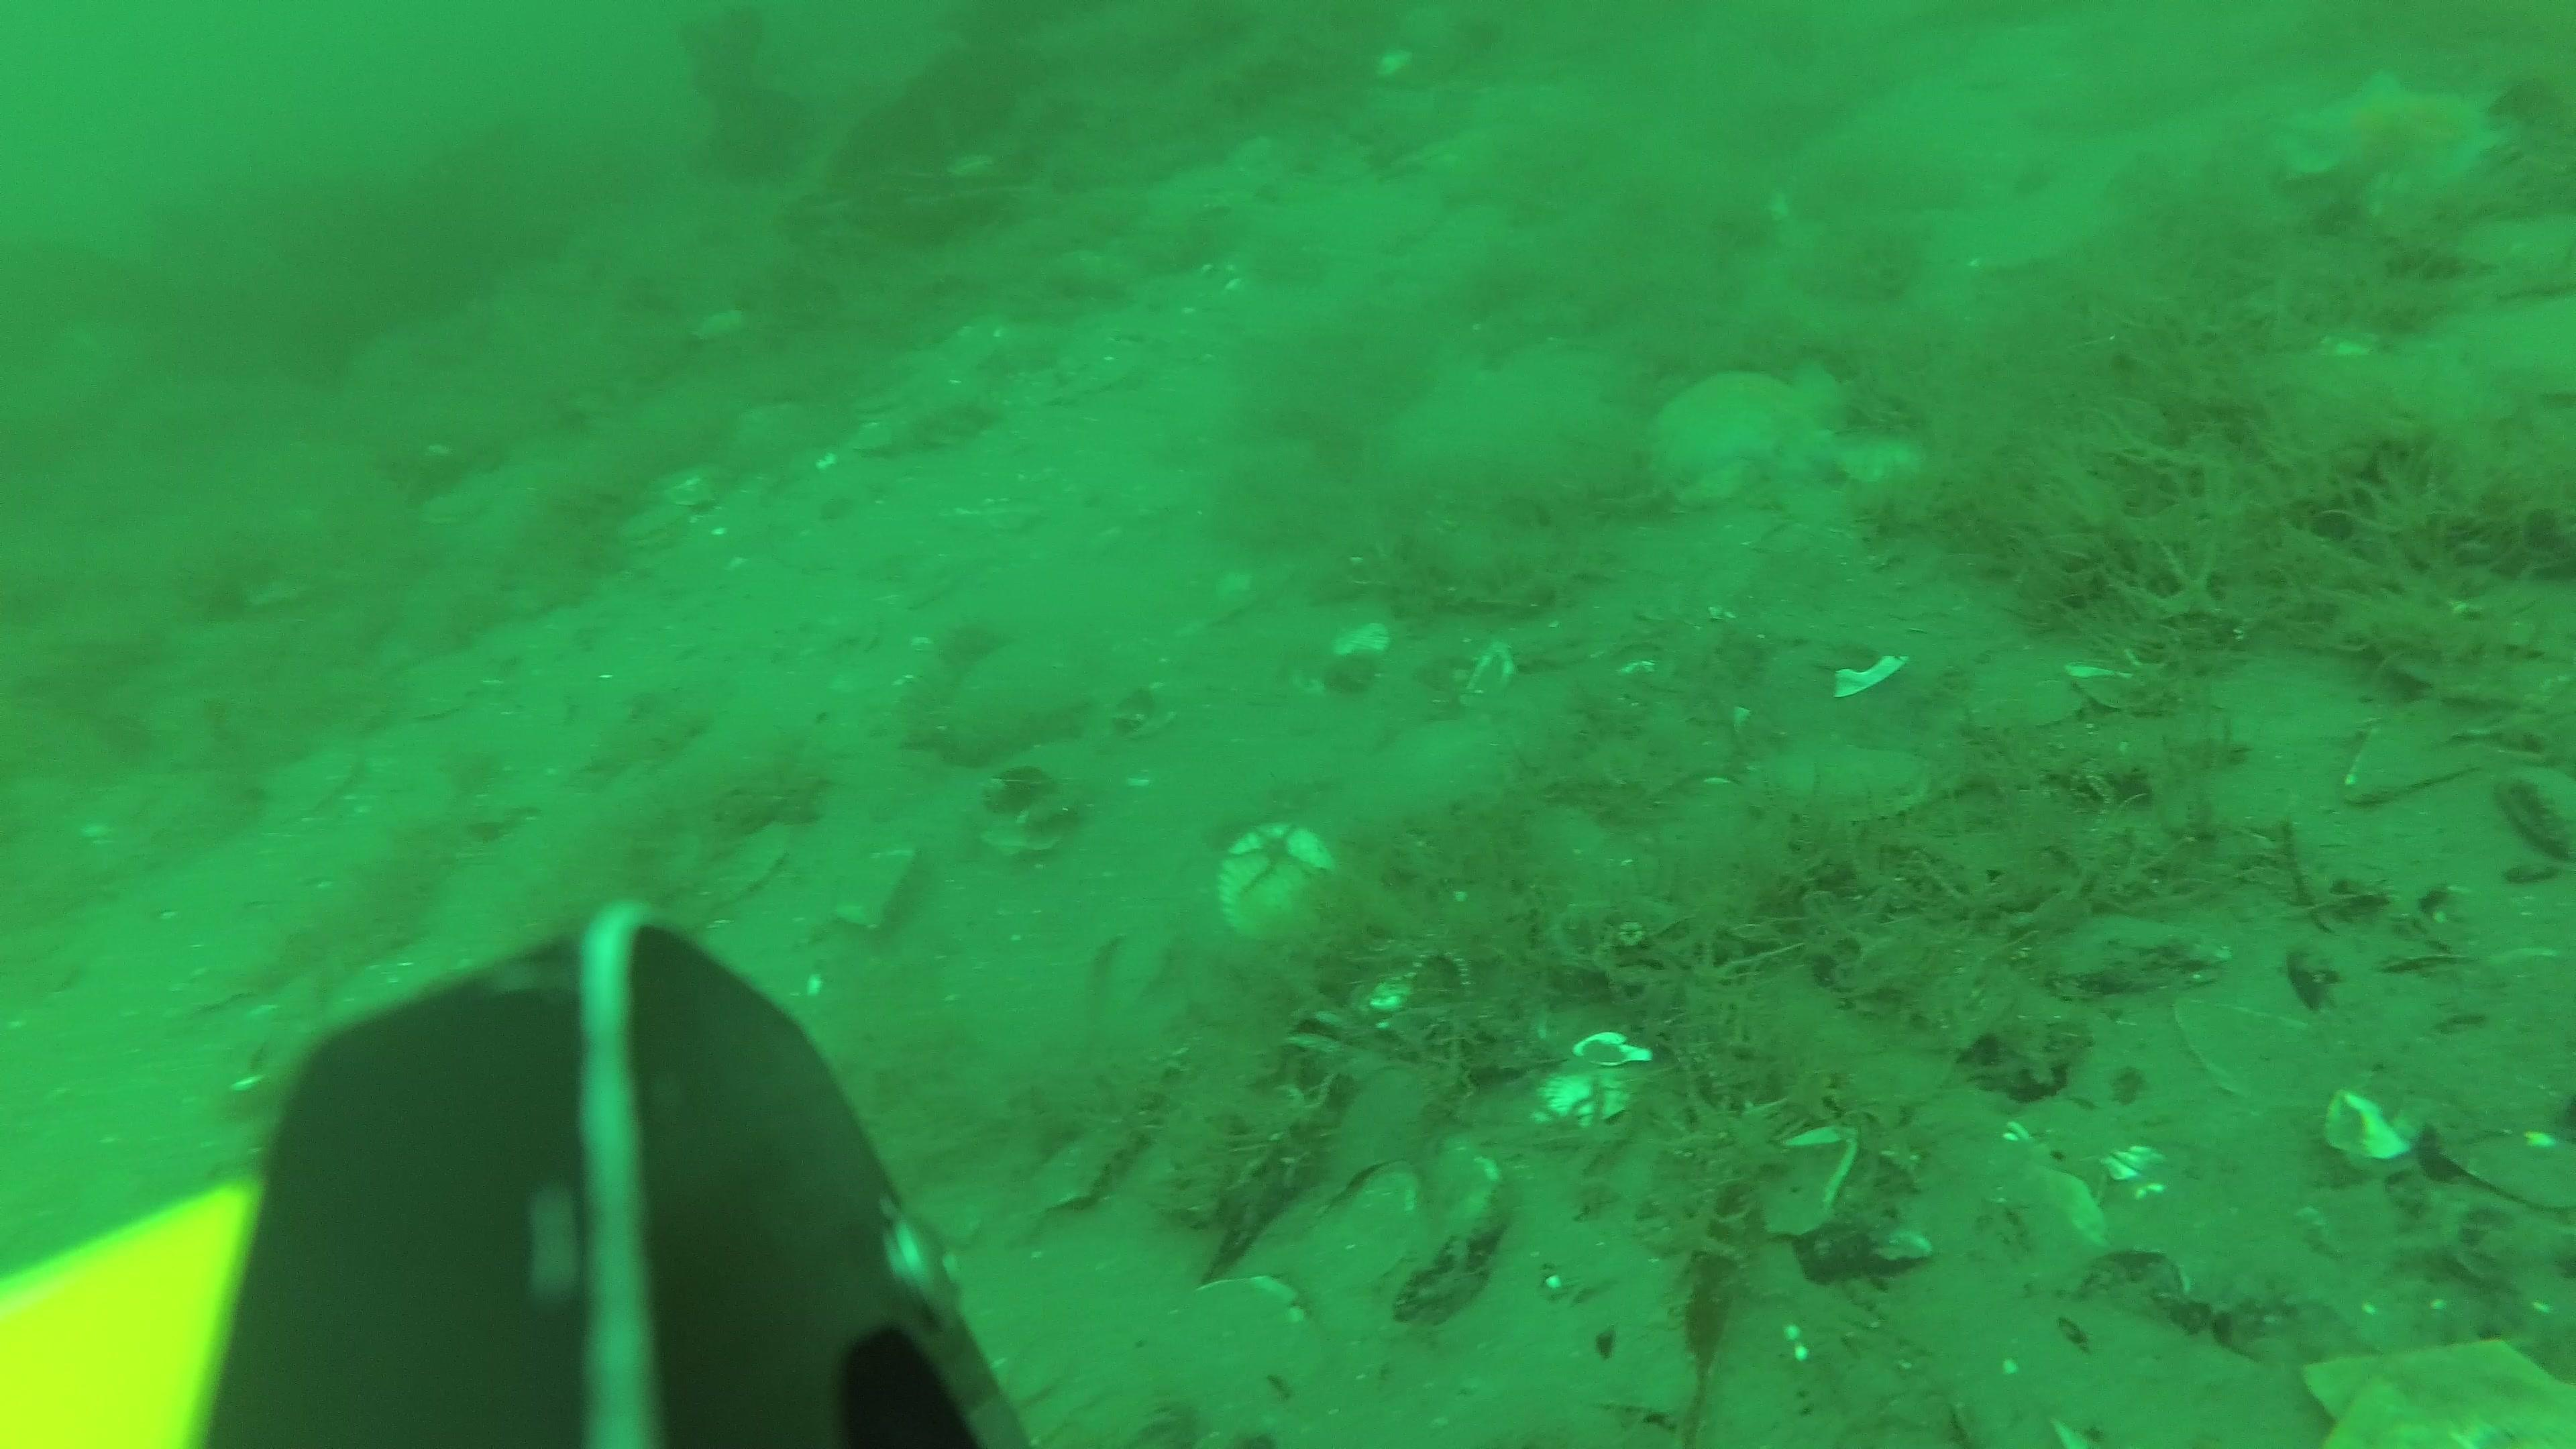scallop: (1219, 832, 1343, 955), (610, 502, 694, 559)
starfish: (2293, 65, 2523, 219), (1642, 368, 1844, 510)
